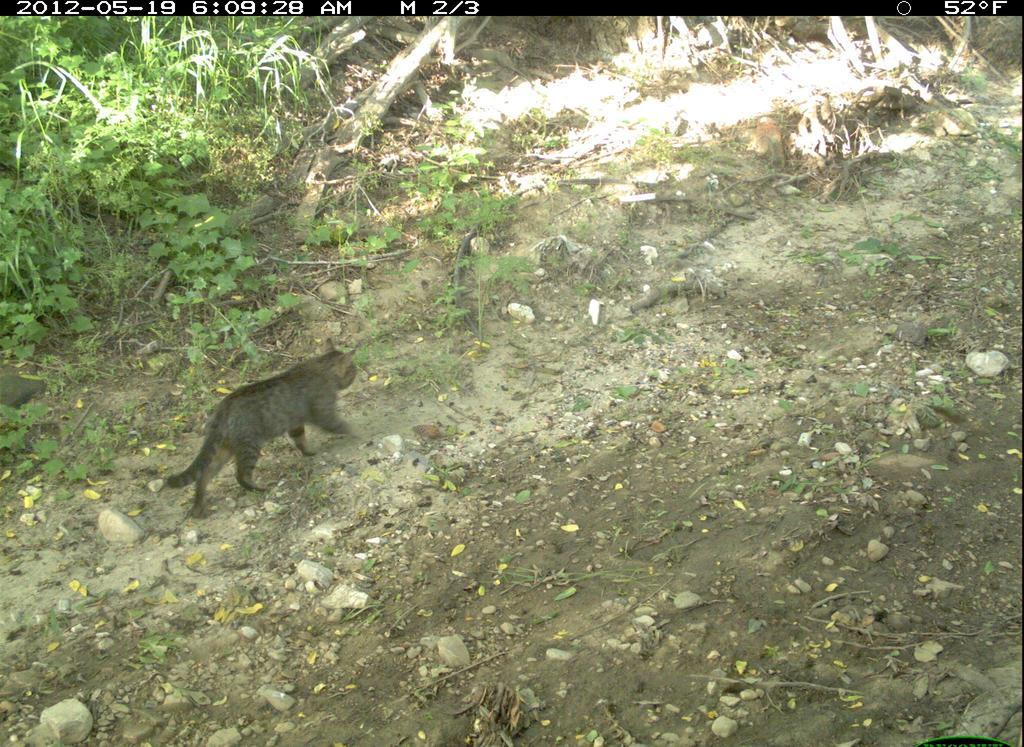cat: (153, 340, 406, 520)
